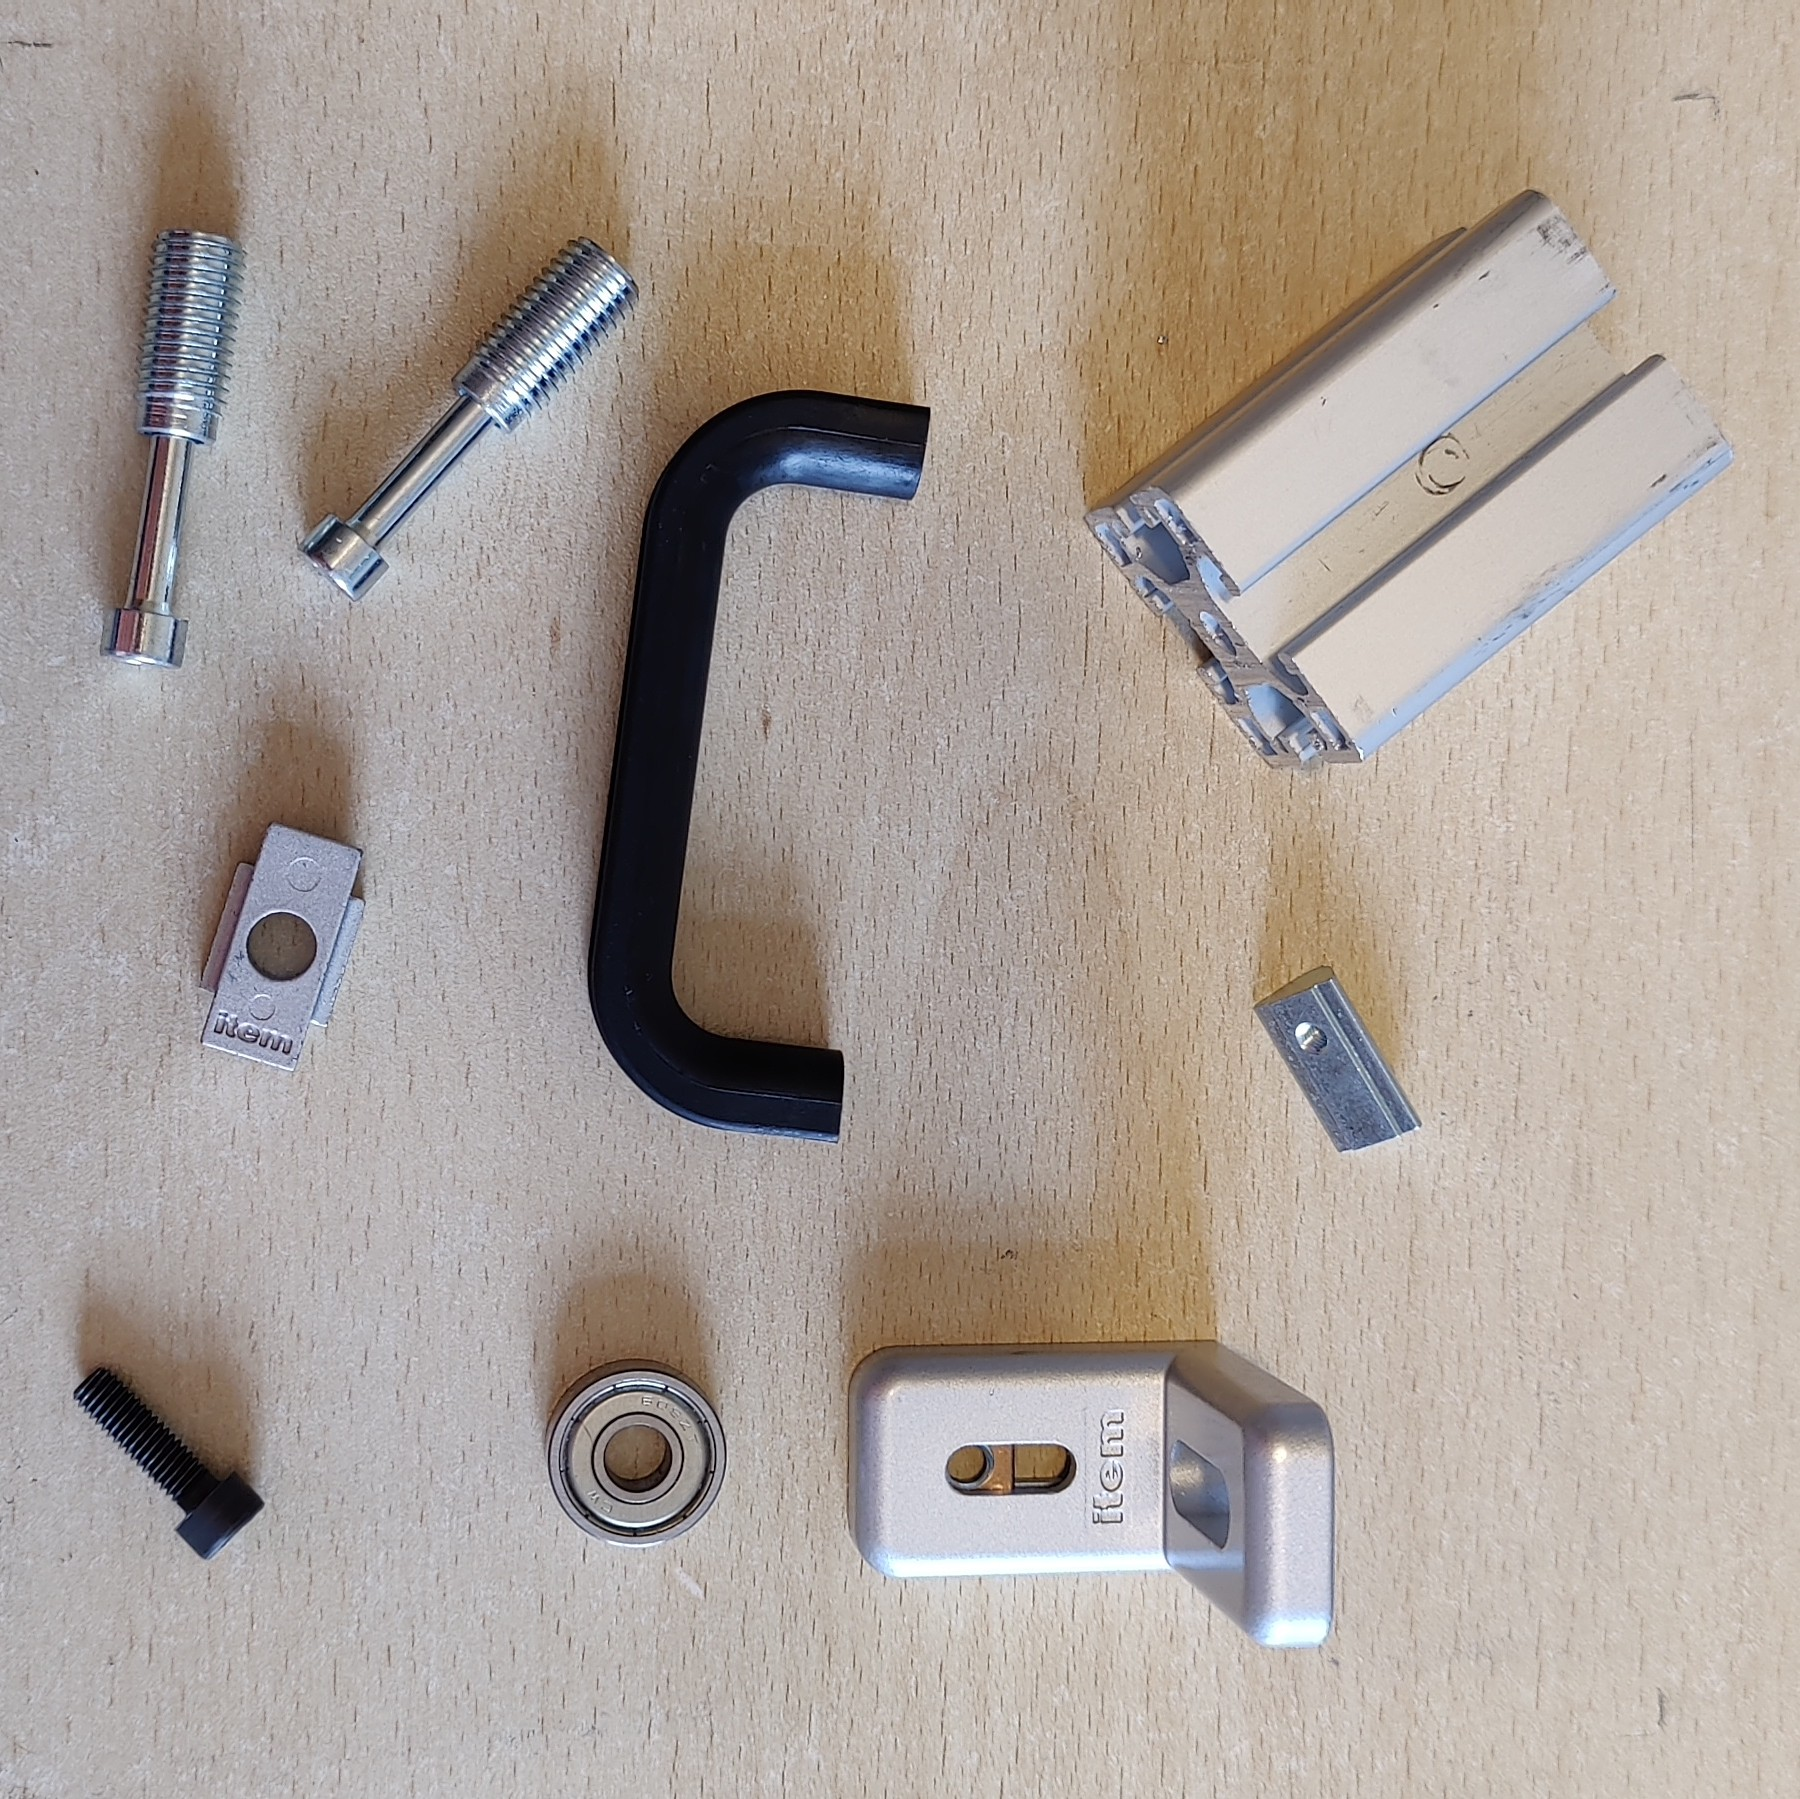Aluminium Extension: (1082, 186, 1734, 773)
Ball Bearing: (540, 1356, 730, 1549)
Multiwinkel: (840, 1336, 1341, 1656)
Pull Handle: (581, 385, 935, 1147)
Shoulder Socket Head Cap Screw: (295, 231, 642, 610), (99, 227, 250, 675)
Socket Head Cap Screw: (69, 1362, 268, 1562)
T Nut Square: (194, 815, 369, 1077)
T Spring Nut: (1252, 964, 1425, 1153)
